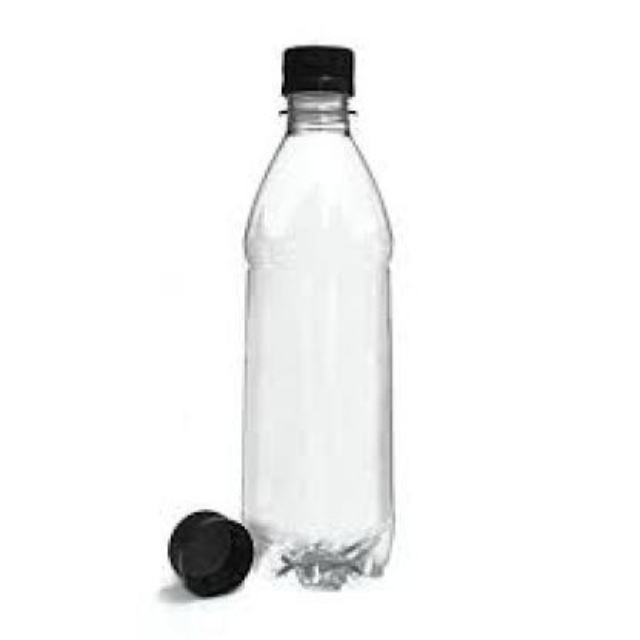trash: (243, 46, 392, 586), (168, 511, 252, 595)
